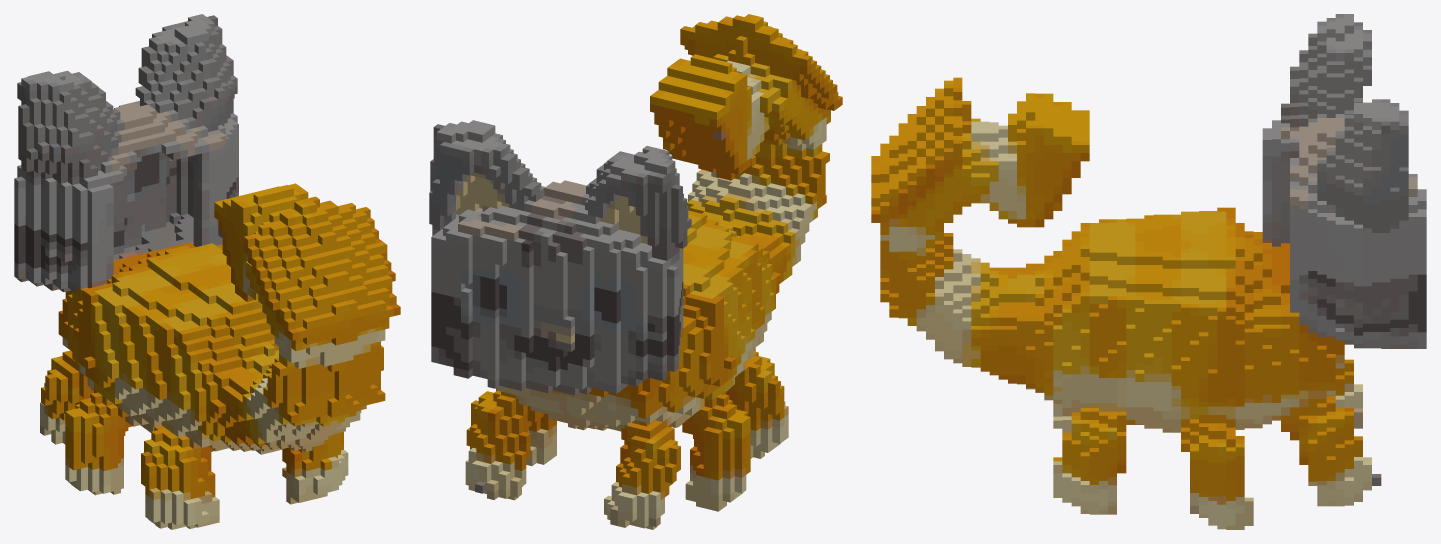
The model's file is TrippiTroppi.glb.
The picture shows the model from 3 angles, left to right: view 1: azimuth 30°, elevation 25°; view 2: azimuth 150°, elevation 25°; view 3: azimuth 270°, elevation 25°; orthographic projection. The views are drawn at different scales.
Visible parts, largest first — view 1: geometry_0; view 2: geometry_0; view 3: geometry_0.
Part boxes in pixels (<box>): geometry_0: <box>14,14,400,529</box>; geometry_0: <box>429,14,842,529</box>; geometry_0: <box>871,14,1426,529</box>.
Size of the model in its own units: 0.6735 by 1 by 1.24.
